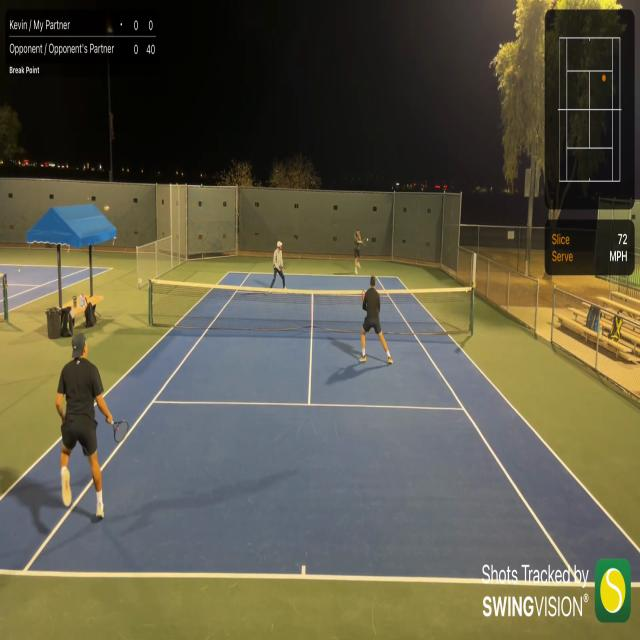ball: (367, 238, 369, 242)
